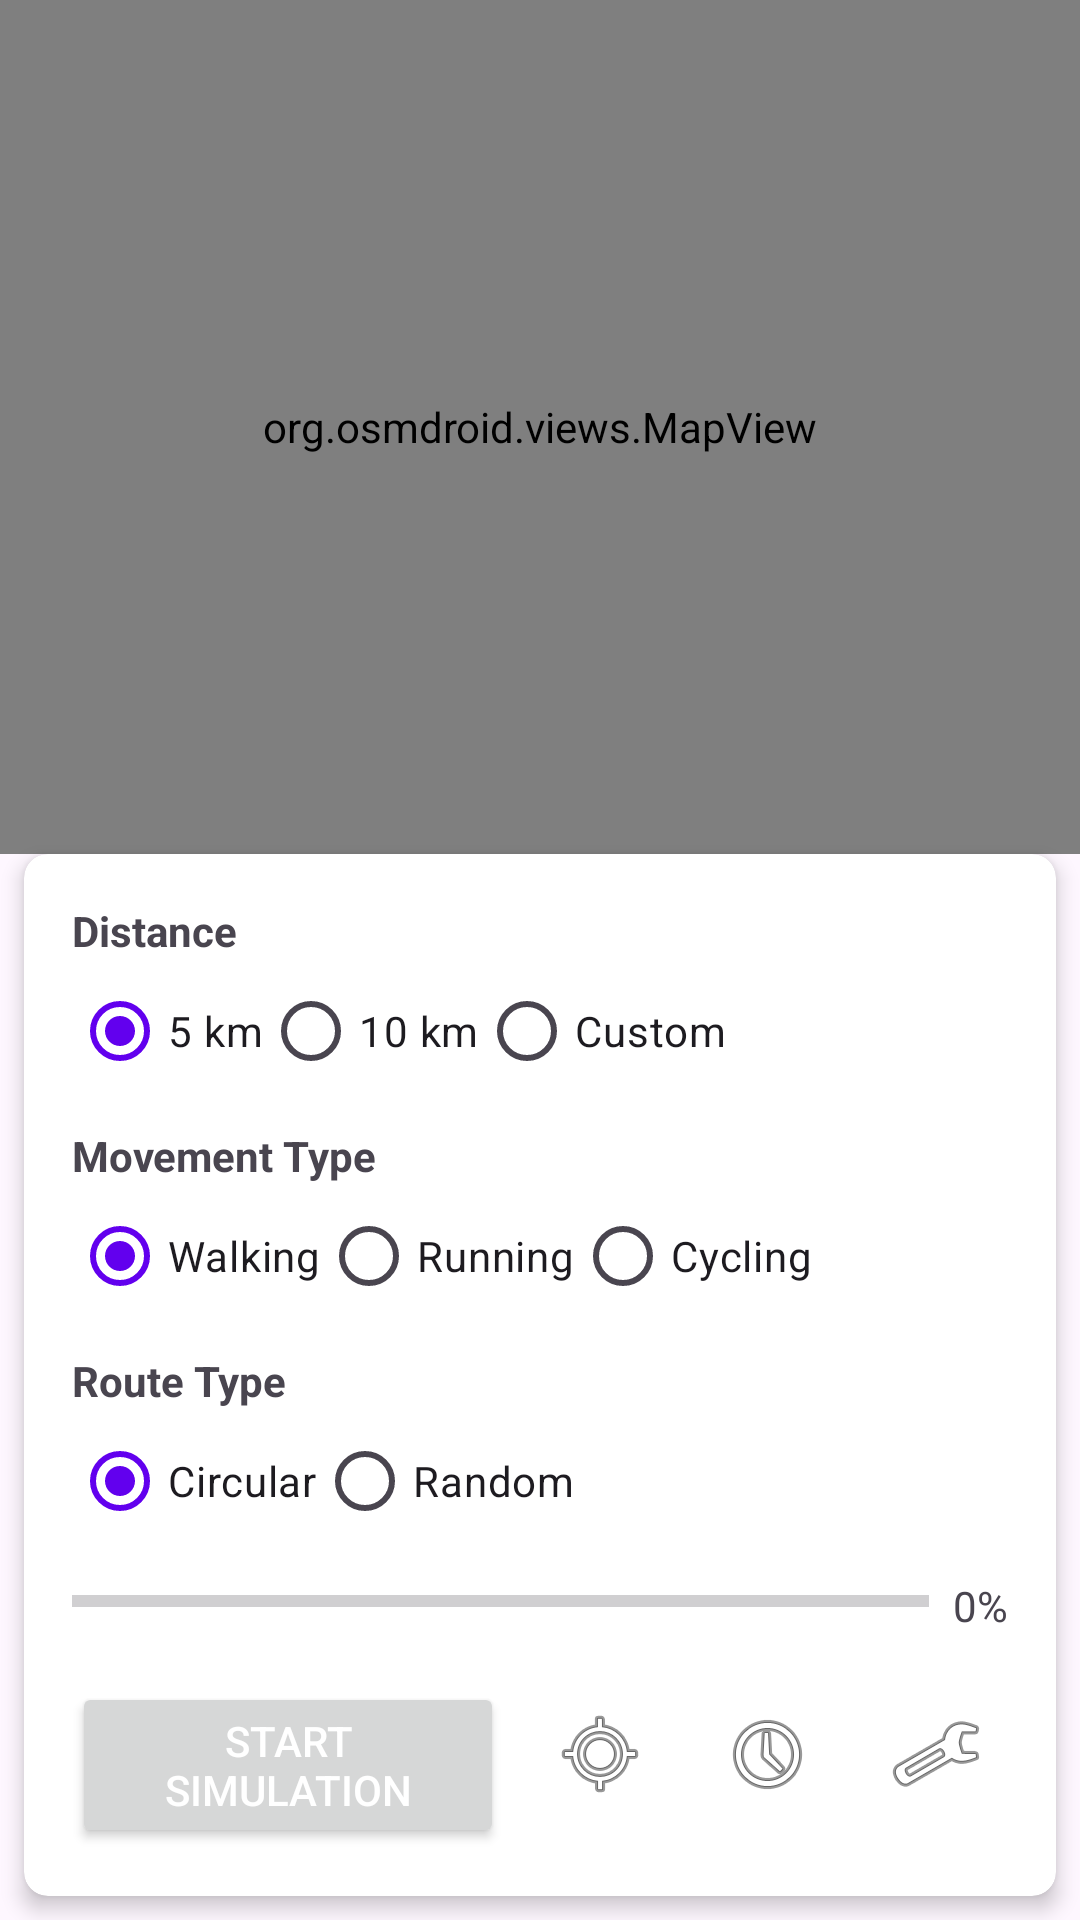

Named icons in this screenshot (1080 × 1920) and their centers, (x,y):
Current Location: (600,1754)
History: (767,1754)
Settings: (936,1754)
